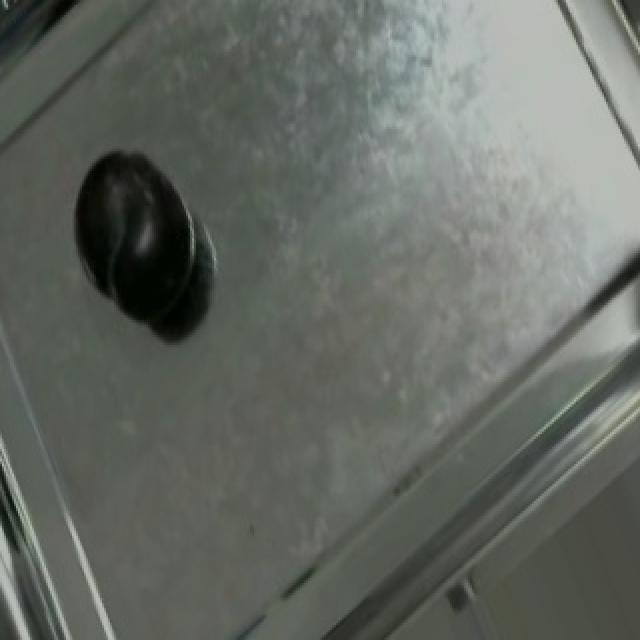Fruit: (52, 129, 216, 345)
